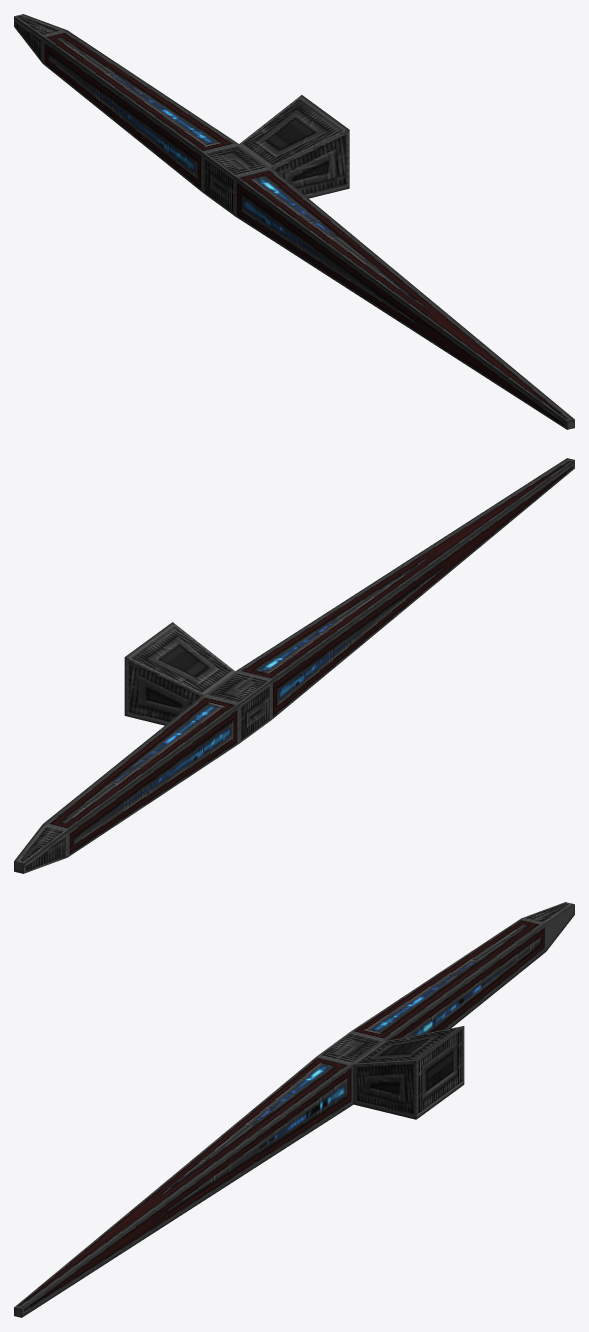
Rendered from BFP_JumpgatePylon01_LowerRight.FBX.
The picture shows the model from 3 angles, top to bottom: view 1: azimuth 30°, elevation 25°; view 2: azimuth 150°, elevation 25°; view 3: azimuth 330°, elevation 25°; orthographic projection.
Parts seen in each view (by area): view 1: BFP_JumpgatePylon01_LowerRight; view 2: BFP_JumpgatePylon01_LowerRight; view 3: BFP_JumpgatePylon01_LowerRight.
Part boxes in pixels (<box>): BFP_JumpgatePylon01_LowerRight: <box>14,14,574,429</box>; BFP_JumpgatePylon01_LowerRight: <box>14,458,574,873</box>; BFP_JumpgatePylon01_LowerRight: <box>14,902,574,1317</box>.
Size of the model in its own units: 433 by 258 by 3886.
Materials: 1 (1 with a texture image).
